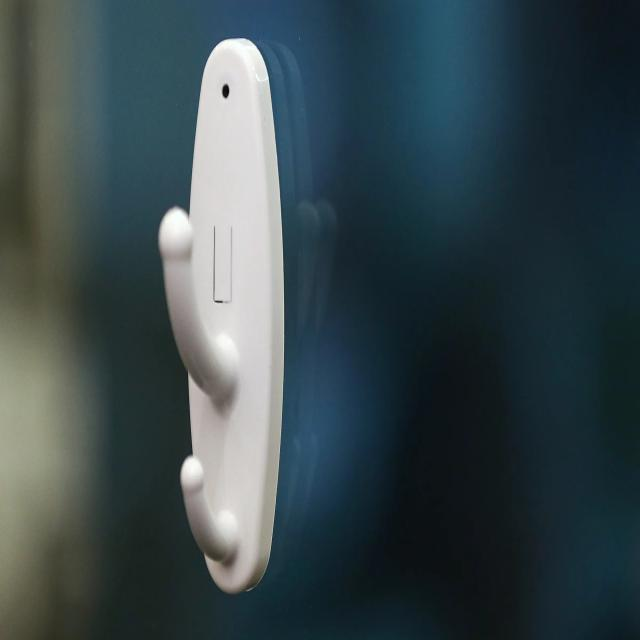hidden camera: (221, 80, 231, 99)
